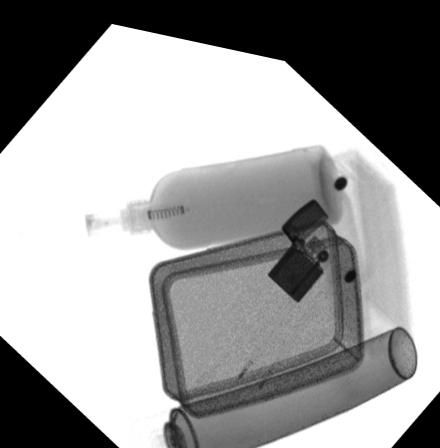Lighter: (267, 182, 330, 289)
Sprayer: (131, 307, 418, 448)
